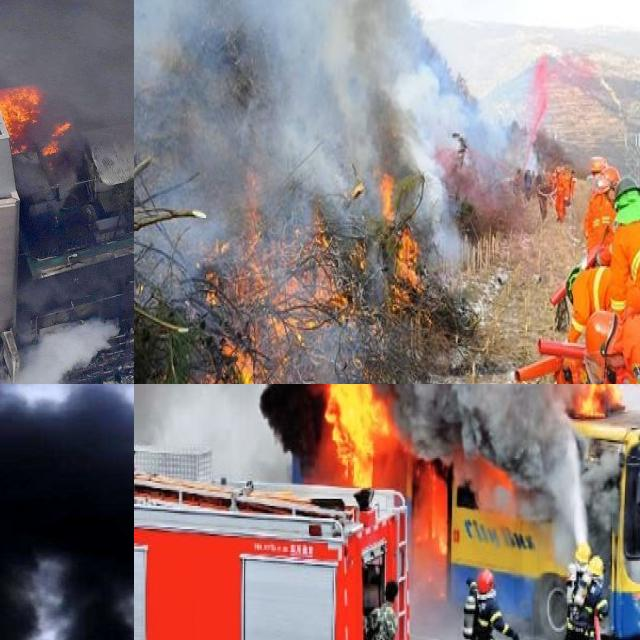fire: (200, 162, 436, 384), (315, 384, 385, 484), (0, 84, 64, 158), (548, 384, 631, 426)
smoke: (134, 0, 528, 272), (134, 384, 616, 471), (0, 384, 134, 640), (0, 0, 134, 124), (619, 384, 640, 417)
